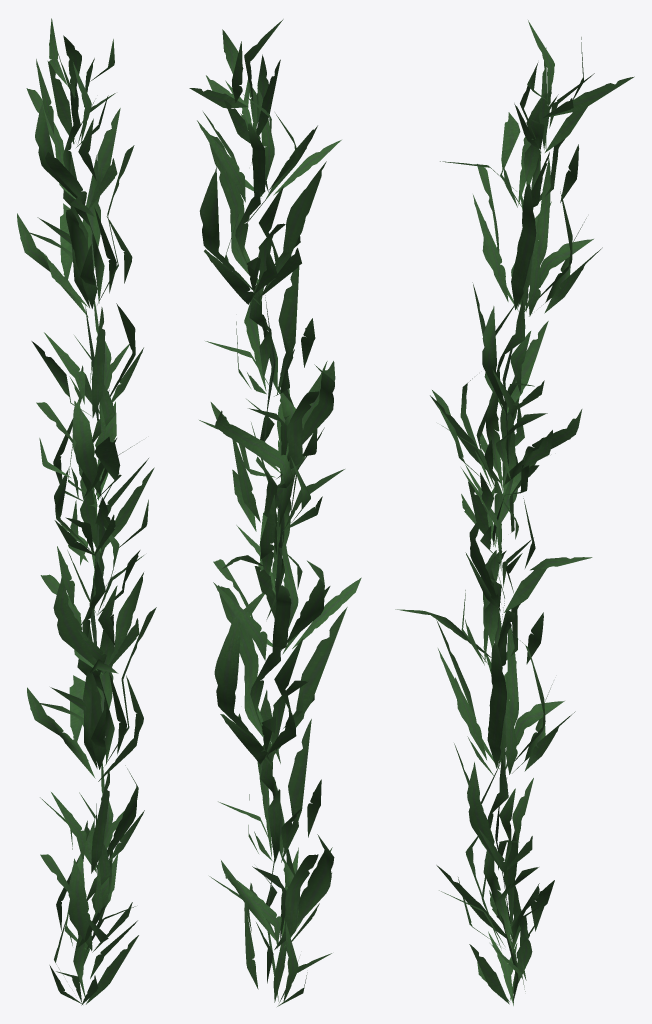
The model's file is SeaWeed_1E.fbx.
3 views of the same model, side by side, from view 1: azimuth 30°, elevation 25°; view 2: azimuth 150°, elevation 25°; view 3: azimuth 270°, elevation 25° (orthographic). The views are drawn at different scales.
Visible parts, largest first — view 1: SM_SeaweedE_LOD1; view 2: SM_SeaweedE_LOD1; view 3: SM_SeaweedE_LOD1.
Boxes of the visible parts, x1,y1,x2,y2 form: SM_SeaweedE_LOD1: (17,18,156,1005); SM_SeaweedE_LOD1: (189,19,361,1006); SM_SeaweedE_LOD1: (395,20,634,1005).
Size of the model in its own units: 94.23 by 770 by 174.
